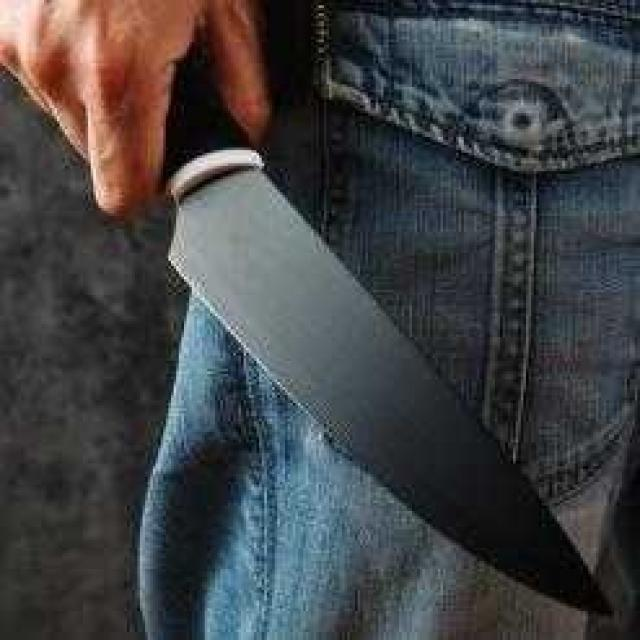Knife: (56, 51, 640, 640)
